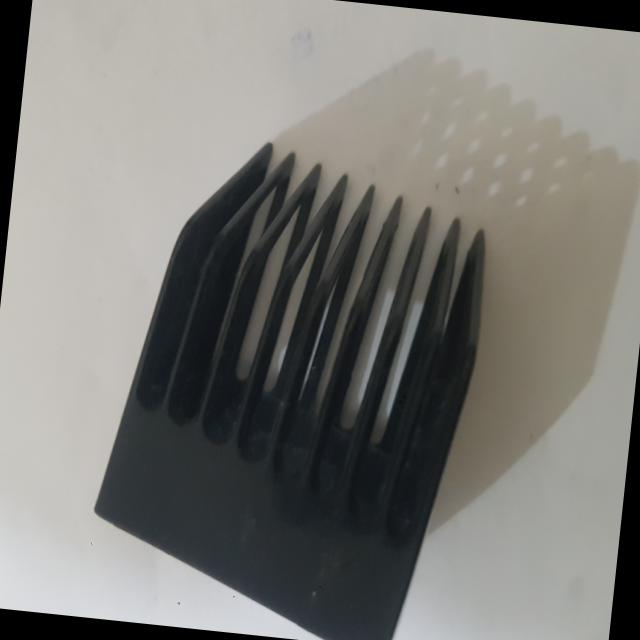general: (81, 122, 499, 640)
